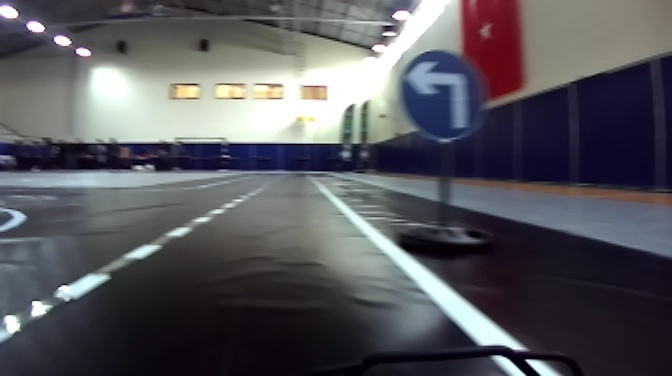sola_donus: (397, 47, 488, 140)
